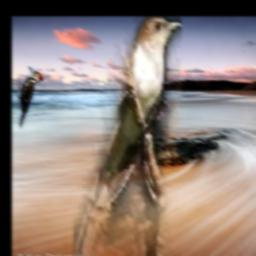Cuckoo: (74, 17, 181, 256)
Woodpecker: (18, 67, 43, 131)
